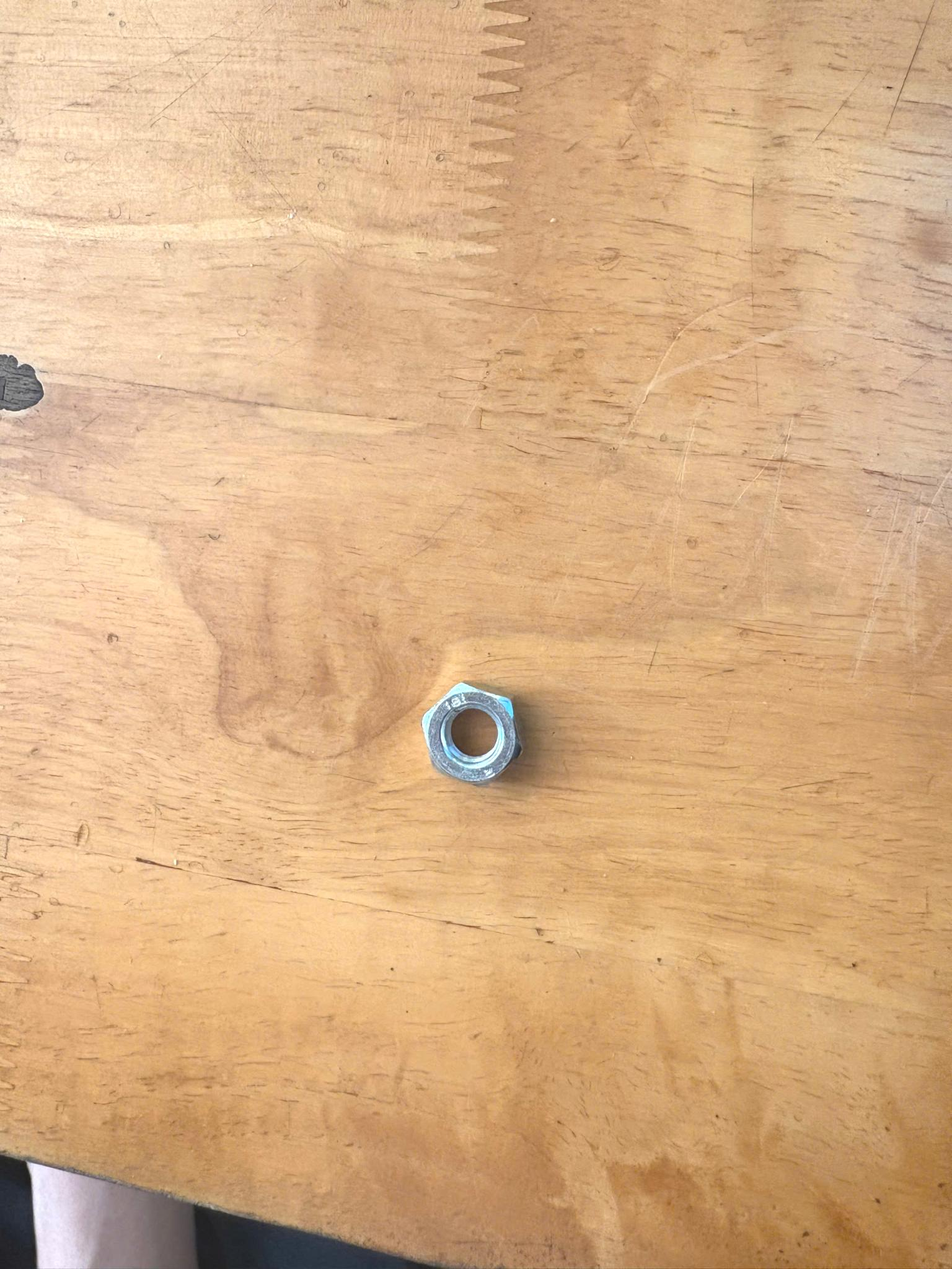nut: (413, 672, 545, 803)
